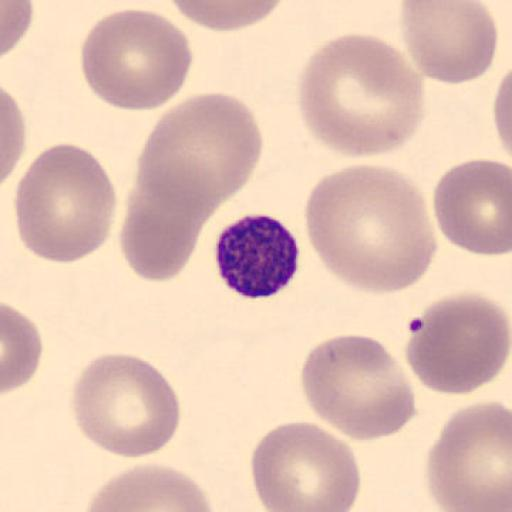Platelet: (212, 212, 301, 300)
RBC: (303, 162, 438, 295), (135, 91, 265, 219), (296, 32, 425, 160), (12, 141, 117, 265), (300, 334, 418, 442), (79, 8, 194, 114), (70, 350, 180, 460), (405, 291, 511, 396), (249, 420, 363, 512), (119, 168, 211, 282), (425, 398, 512, 512), (398, 0, 498, 86), (432, 156, 512, 256), (80, 461, 216, 512), (164, 0, 288, 34), (2, 301, 42, 394), (0, 85, 27, 189), (490, 64, 512, 180), (2, 0, 34, 59), (492, 72, 512, 154)
